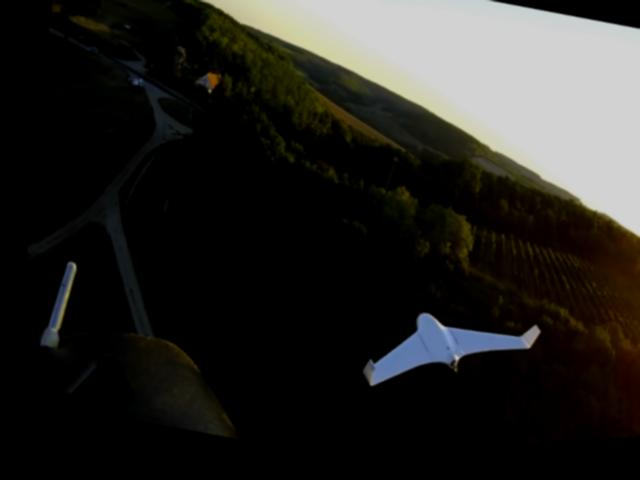plane: (343, 289, 542, 433)
